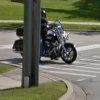Motorcycle: (10, 18, 84, 69)
